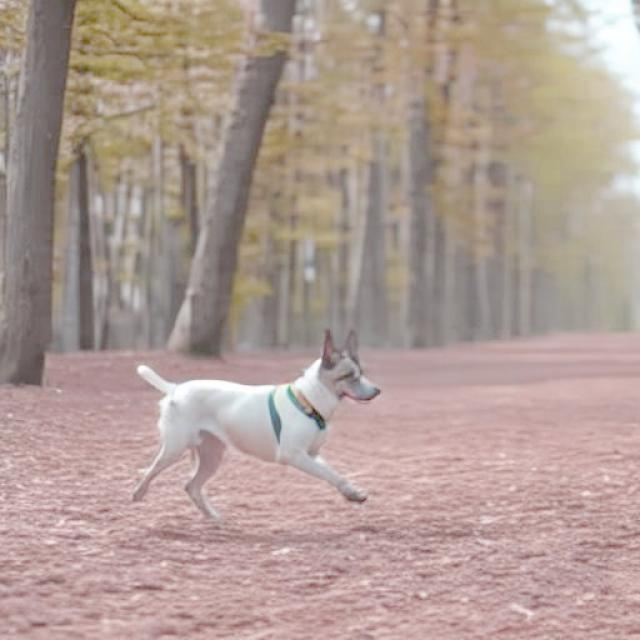Dog: (132, 326, 382, 518)
